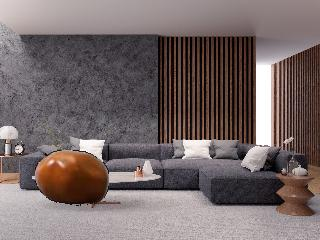potato: (32, 146, 112, 206)
